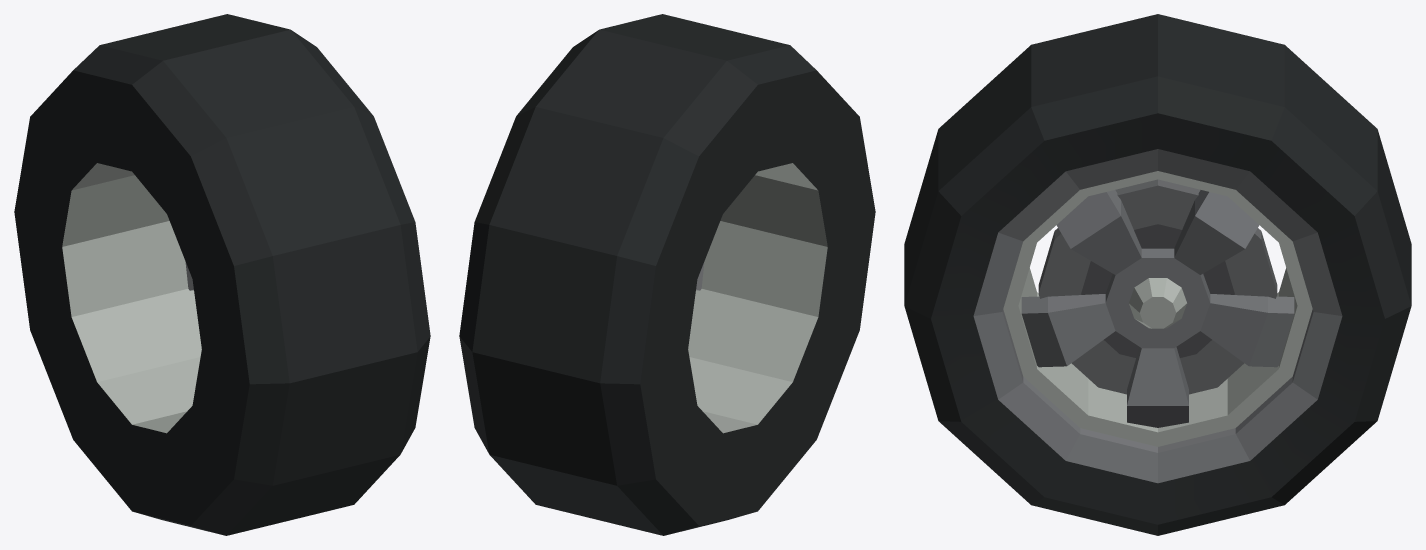
Rendered from SM_Veh_Pickup_Wheel_fl.obj.
The picture shows the model from 3 angles, left to right: view 1: azimuth 30°, elevation 25°; view 2: azimuth 150°, elevation 25°; view 3: azimuth 270°, elevation 25°; orthographic projection.
Parts seen in each view (by area): view 1: SM_Veh_Pickup_Wheel_fl_0; view 2: SM_Veh_Pickup_Wheel_fl_0; view 3: SM_Veh_Pickup_Wheel_fl_0.
Part boxes in pixels (left/top/right/bottom): SM_Veh_Pickup_Wheel_fl_0: left=14, top=14, right=430, bottom=535; SM_Veh_Pickup_Wheel_fl_0: left=459, top=14, right=875, bottom=535; SM_Veh_Pickup_Wheel_fl_0: left=904, top=14, right=1411, bottom=535.
Bounding box in the file's own units: 0.3708 × 0.8797 × 0.8797.
1 material, 1 textured.
